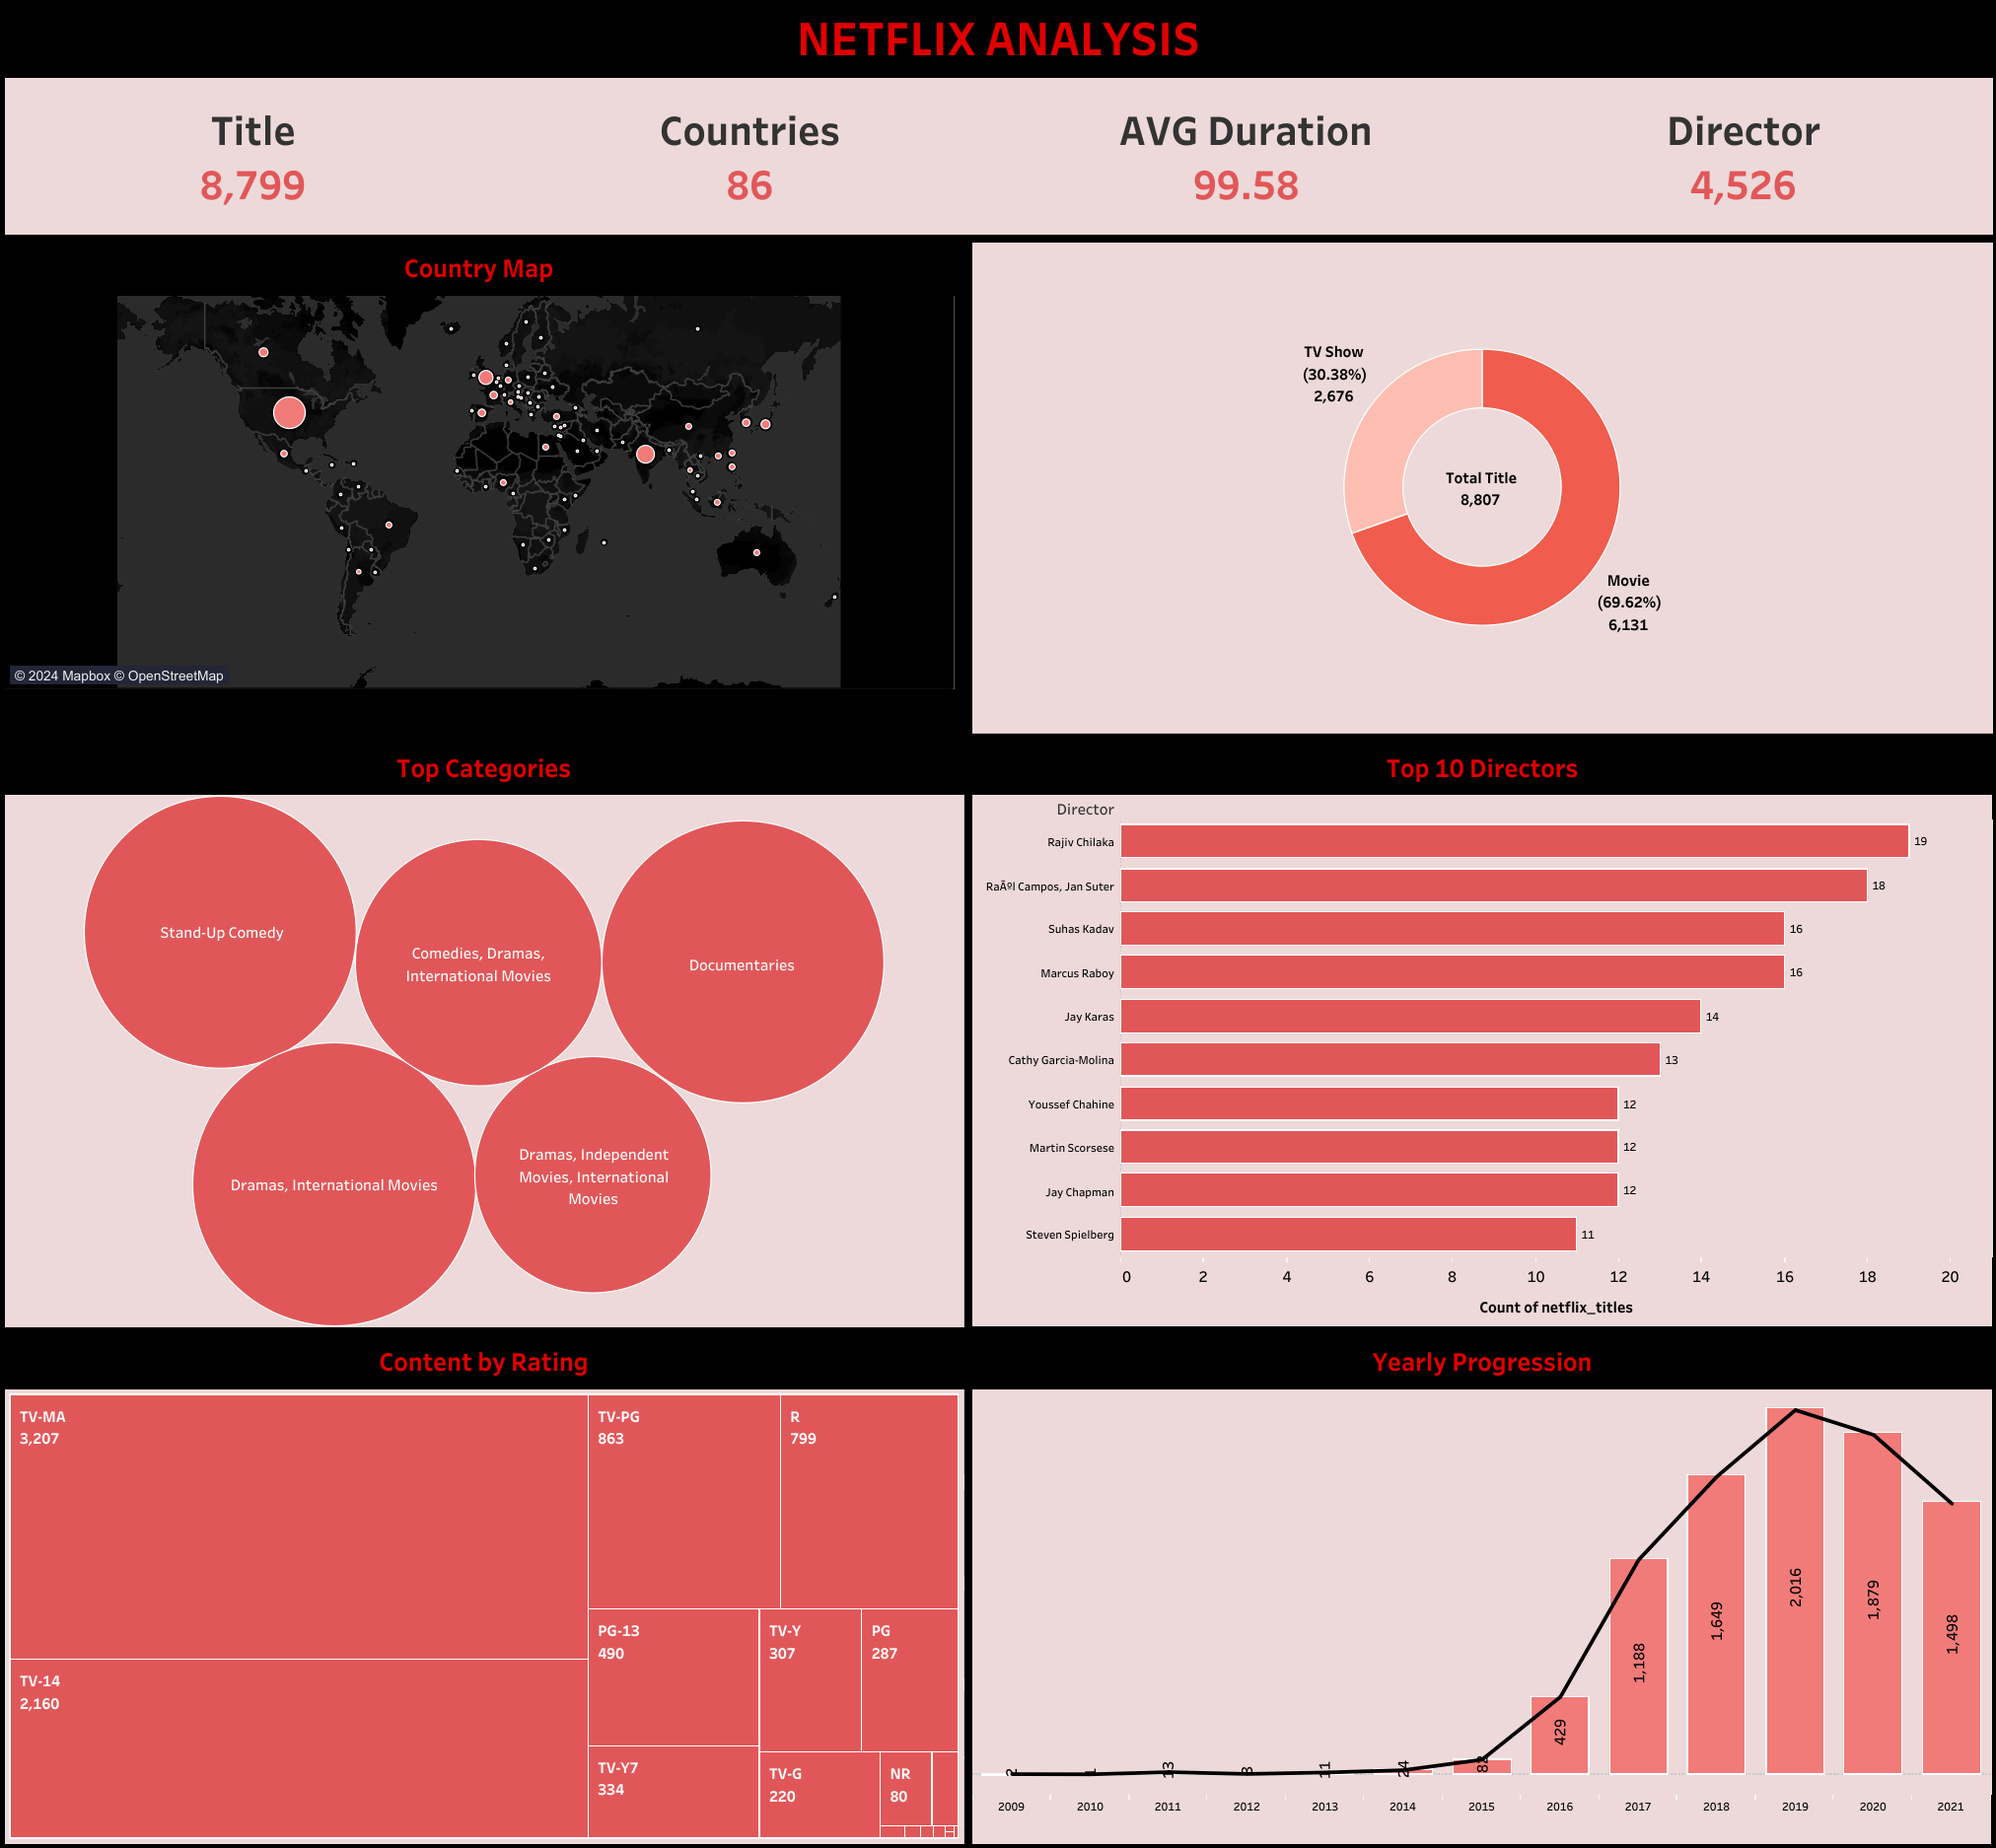

The dashboard page shown, as its layout file describes it:
{"tool":"tableau","page":{"name":"Dashboard 1","canvas":[1620,1500],"ordinal":0},"visuals":[{"type":"text","box":[0,0,1620,72]},{"type":"worksheet","title":"KPI","mark":"Text","cols":["Calculation_1288311026430447622","Calculation_1288311026430488584","Calculation_1288311026430513162","Calculation_1288311026430599180"],"box":[0,72,1620,134]},{"type":"worksheet","title":"Country Map","mark":"Circle","box":[0,206,785,405]},{"type":"worksheet","title":"Donut Chart","mark":"Pie","rows":["Calculation_1288311026418184193","Calculation_1288311026418266115"],"box":[785,206,835,405]},{"type":"worksheet","title":"Top Categories","mark":"Circle","box":[0,611,785,482]},{"type":"worksheet","title":"Top 10 Directors","mark":"Bar","rows":["director"],"cols":["netflix!titles_10C297E39B4C440C968450CC25DEBD30"],"box":[785,611,835,482]},{"type":"worksheet","title":"Content by Rating","mark":"Square","box":[0,1093,785,407]},{"type":"worksheet","title":"Yearly Progression","mark":"Bar","rows":["netflix!titles_10C297E39B4C440C968450CC25DEBD30","netflix!titles_10C297E39B4C440C968450CC25DEBD30"],"cols":["date_added"],"box":[785,1093,835,407]}]}

Visuals, with their boxes in screenshot pixels (x1, y1, x2, y2), scaled from the page's 1620x1500 canvas onto the 1996x1848 screenshot:
text: [left=0, top=0, right=1995, bottom=89]
"KPI" worksheet (Text marks): [left=0, top=89, right=1995, bottom=253]
"Country Map" worksheet (Circle marks): [left=0, top=253, right=967, bottom=752]
"Donut Chart" worksheet (Pie marks): [left=967, top=253, right=1995, bottom=752]
"Top Categories" worksheet (Circle marks): [left=0, top=752, right=967, bottom=1347]
"Top 10 Directors" worksheet (Bar marks): [left=967, top=752, right=1995, bottom=1347]
"Content by Rating" worksheet (Square marks): [left=0, top=1347, right=967, bottom=1847]
"Yearly Progression" worksheet (Bar marks): [left=967, top=1347, right=1995, bottom=1847]
